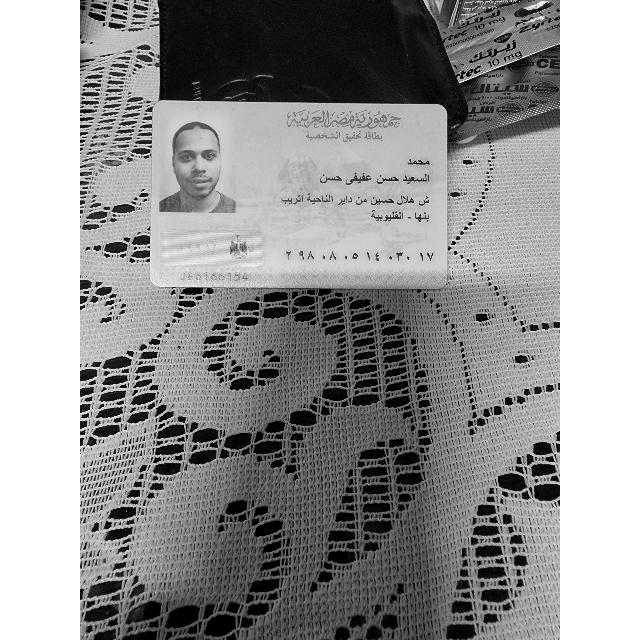id_card: (147, 107, 445, 291)
